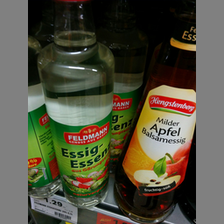vinegar: (114, 18, 195, 223), (38, 1, 111, 207)
